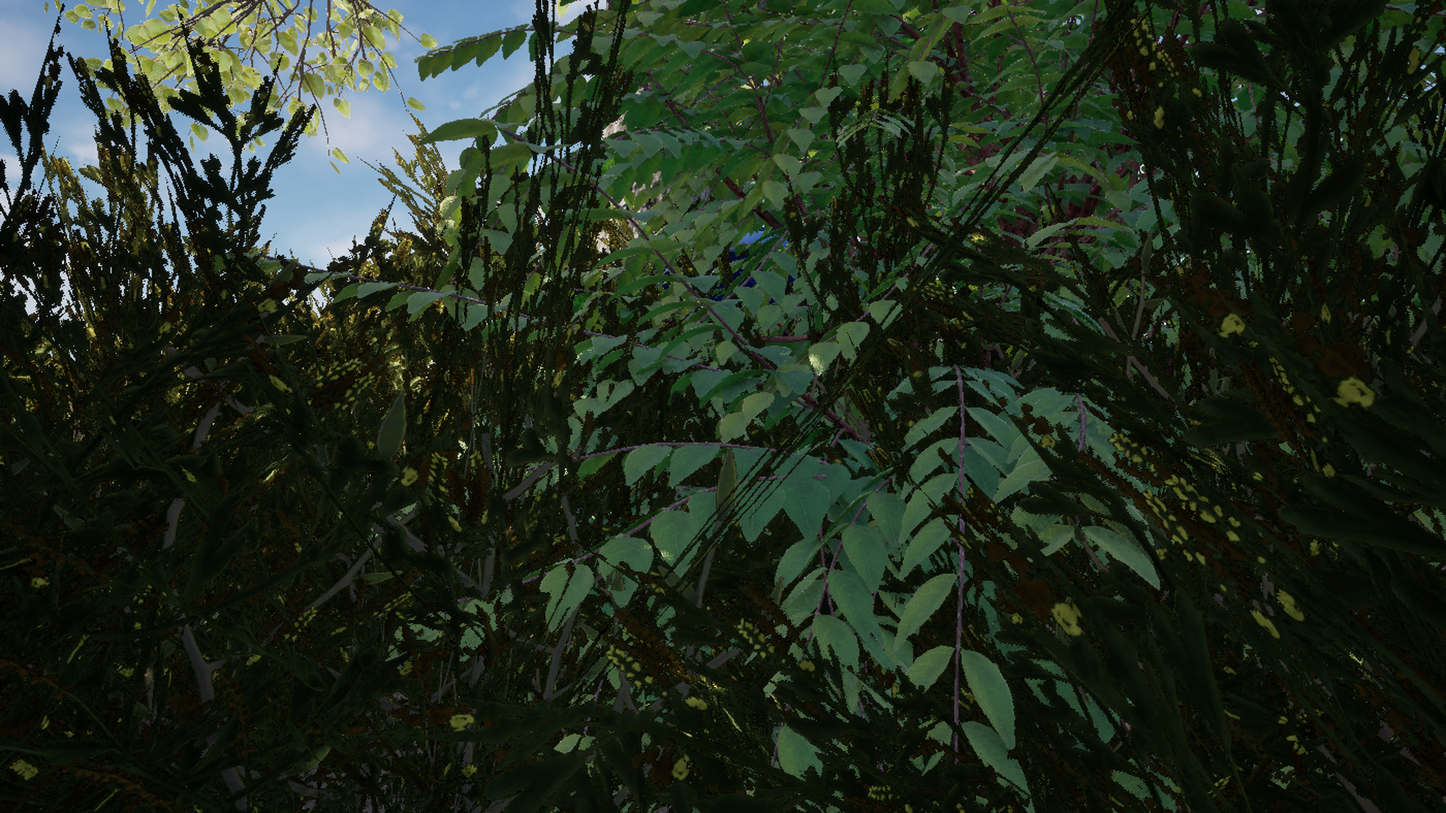Piplup: (293, 0, 1163, 813)
